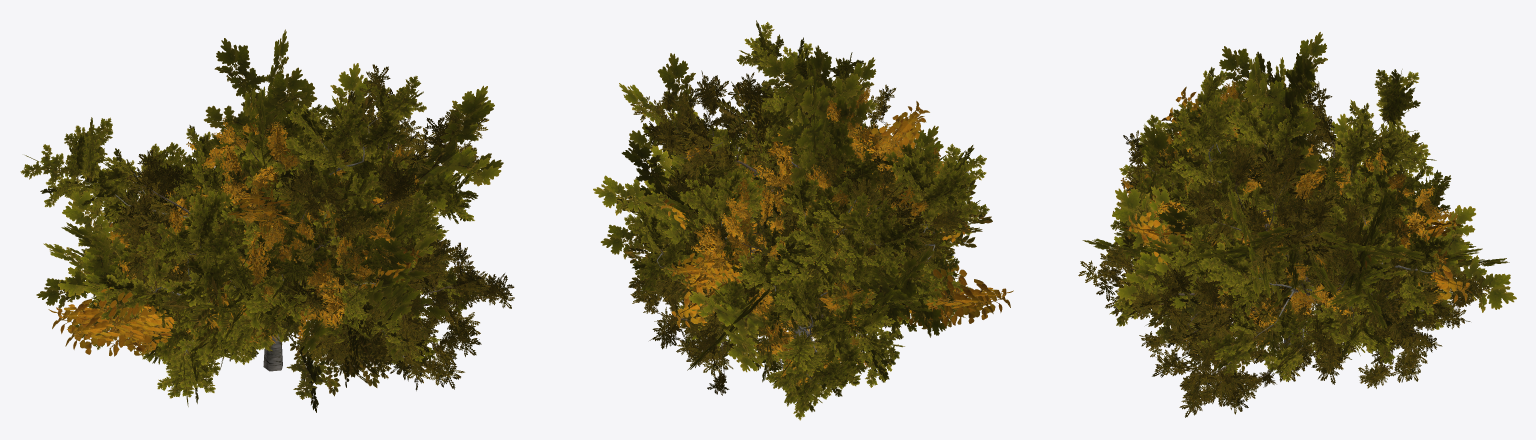
The model's file is trees.glb.
3 renders of one model, left to right at view 1: azimuth 30°, elevation 25°; view 2: azimuth 150°, elevation 25°; view 3: azimuth 270°, elevation 25°, orthographic. The views are drawn at different scales.
Visible parts, largest first — view 1: plane_hi_leaf, ash_hi_leaf, plane_lo_leaf, lime_hi_leaf, lime_lo_leaf, ash_lo_leaf, bare_hi_leaf, bare_lo_leaf, plane_hi_bark; view 2: plane_hi_leaf, plane_lo_leaf, ash_hi_leaf, lime_hi_leaf, lime_lo_leaf, ash_lo_leaf, bare_hi_leaf, plane_hi_bark; view 3: plane_hi_leaf, ash_hi_leaf, plane_lo_leaf, lime_hi_leaf, ash_lo_leaf, lime_lo_leaf, bare_hi_leaf, bare_lo_leaf, ash_hi_bark, plane_hi_bark.
Boxes of the visible parts, x1=… form: plane_hi_leaf: x1=20, y1=76, x2=478, y2=406; ash_hi_leaf: x1=114, y1=64, x2=514, y2=390; plane_lo_leaf: x1=36, y1=29, x2=503, y2=361; lime_hi_leaf: x1=118, y1=103, x2=415, y2=356; lime_lo_leaf: x1=48, y1=160, x2=421, y2=356; ash_lo_leaf: x1=144, y1=89, x2=420, y2=396; bare_hi_leaf: x1=98, y1=157, x2=418, y2=365; bare_lo_leaf: x1=161, y1=163, x2=415, y2=412; plane_hi_bark: x1=77, y1=117, x2=433, y2=371; plane_hi_leaf: x1=624, y1=20, x2=989, y2=420; plane_lo_leaf: x1=593, y1=45, x2=976, y2=372; ash_hi_leaf: x1=629, y1=70, x2=966, y2=395; lime_hi_leaf: x1=684, y1=84, x2=945, y2=386; lime_lo_leaf: x1=660, y1=101, x2=1013, y2=333; ash_lo_leaf: x1=624, y1=82, x2=992, y2=377; bare_hi_leaf: x1=673, y1=127, x2=926, y2=349; plane_hi_bark: x1=656, y1=76, x2=935, y2=383; plane_hi_leaf: x1=1109, y1=67, x2=1475, y2=381; ash_hi_leaf: x1=1078, y1=81, x2=1489, y2=417; plane_lo_leaf: x1=1082, y1=32, x2=1516, y2=330; lime_hi_leaf: x1=1113, y1=78, x2=1451, y2=347; ash_lo_leaf: x1=1102, y1=140, x2=1465, y2=374; lime_lo_leaf: x1=1122, y1=86, x2=1471, y2=303; bare_hi_leaf: x1=1154, y1=133, x2=1415, y2=351; bare_lo_leaf: x1=1145, y1=134, x2=1397, y2=343; ash_hi_bark: x1=1122, y1=124, x2=1455, y2=377; plane_hi_bark: x1=1208, y1=119, x2=1434, y2=350.
Size of the model in its own units: 24.74 by 17.7 by 21.69.
Materials: 8 (8 with a texture image).
